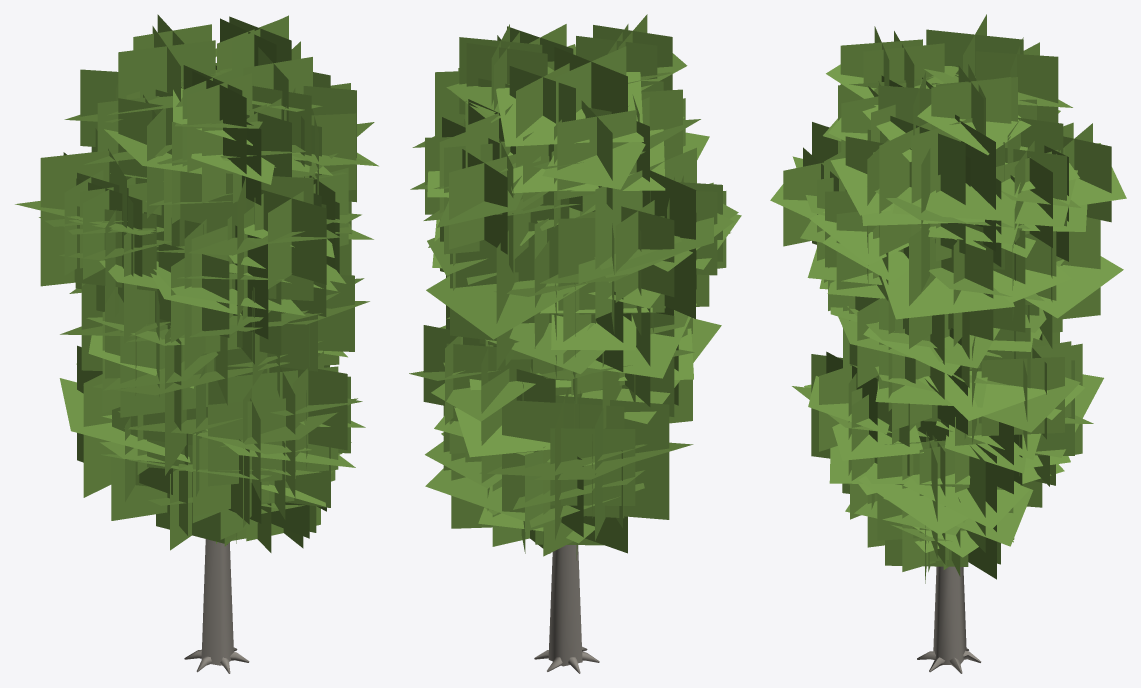
File: tilleul_5_f3_loin.glb
The picture shows the model from 3 angles, left to right: view 1: azimuth 30°, elevation 25°; view 2: azimuth 150°, elevation 25°; view 3: azimuth 270°, elevation 25°; orthographic projection.
Parts seen in each view (by area): view 1: Tilleul_T5_f3_Leger_Loin; view 2: Tilleul_T5_f3_Leger_Loin; view 3: Tilleul_T5_f3_Leger_Loin.
Part boxes in pixels (x1=…): Tilleul_T5_f3_Leger_Loin: x1=15, y1=14, x2=378, y2=673; Tilleul_T5_f3_Leger_Loin: x1=409, y1=14, x2=741, y2=673; Tilleul_T5_f3_Leger_Loin: x1=770, y1=14, x2=1126, y2=673.
Size of the model in its own units: 11.34 by 21 by 11.14.
